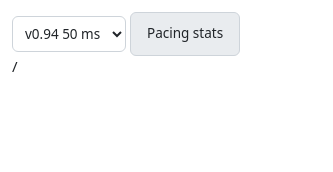
PacingControl › applies a custom mode and gap, and refuses a gap out of range
expect the element named "Line pacing" is shown: met, box [12,12,240,56]
Step 1. Select "Custom…" in the dropdown named "Pacing" → [69, 34], box [12,16,126,52]
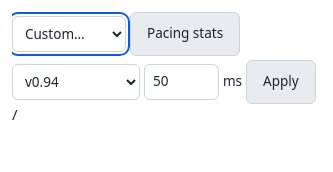
Step 2. Replace the text in the number field named "Gap in milliseconds" with "501" → [182, 82], box [144,64,219,100]
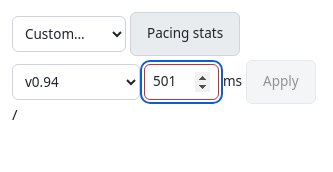
expect the button "Apply" is disabled: met, box [246,60,316,104]
Step 3. Replace the text in the number field named "Gap in milliseconds" with "75" → [182, 82], box [144,64,219,100]
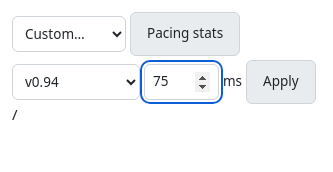
Step 4. Click the button "Apply" → [281, 82], box [246,60,316,104]
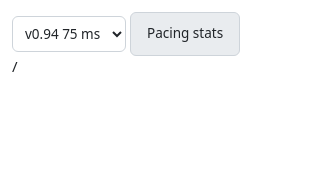
expect the button "Apply" is gone: met
